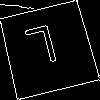L: (23, 24, 63, 76)
